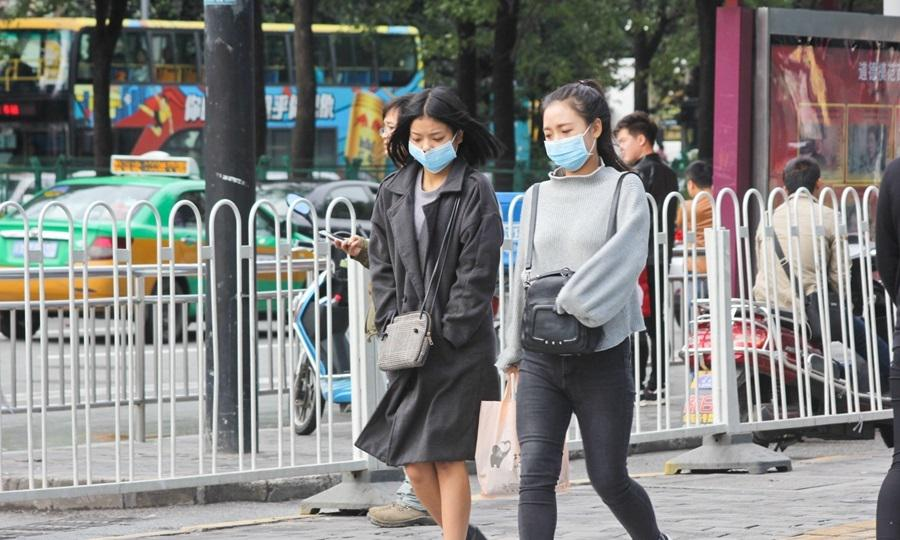NONE: (381, 116, 416, 157), (617, 130, 644, 166)
OK: (541, 120, 592, 171)
WRONG: (407, 127, 458, 178)
